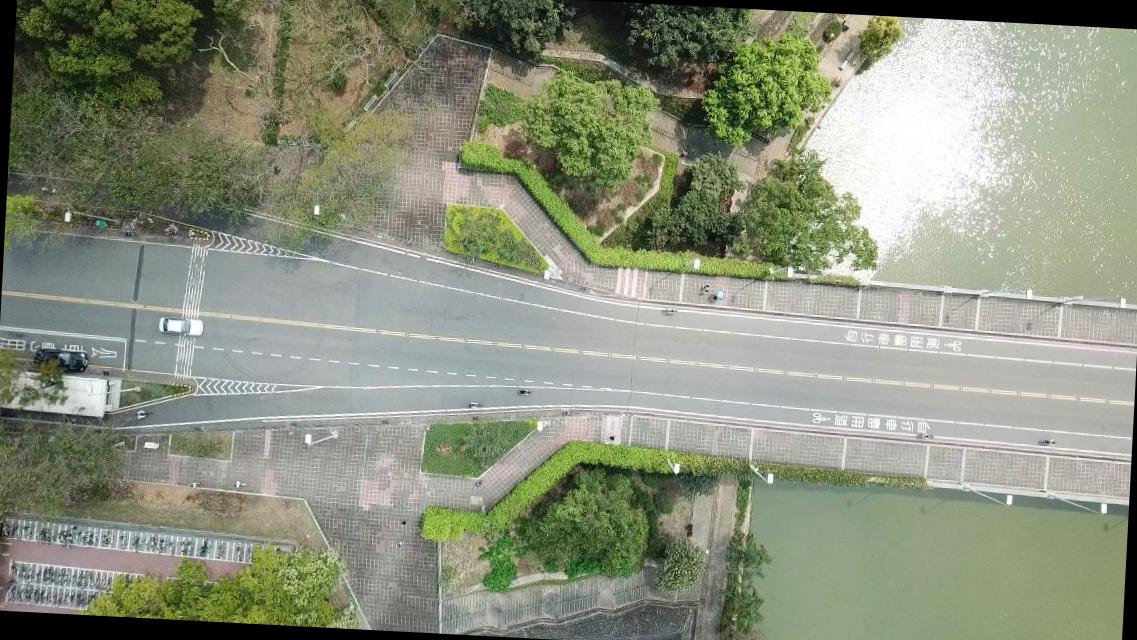vehicle: (32, 348, 86, 373), (156, 316, 203, 336)
